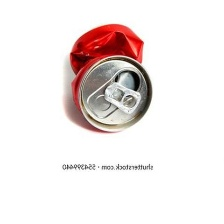can: (61, 20, 156, 134)
